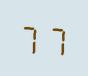seven: (43, 19, 66, 57), (19, 18, 42, 55)
